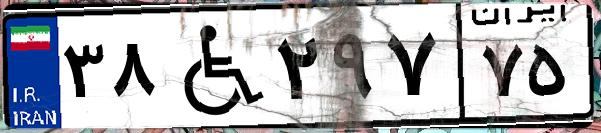2: (270, 28, 330, 110)
3: (57, 26, 110, 100)
5: (525, 38, 570, 115)
7: (385, 28, 445, 110), (475, 38, 525, 113)
8: (110, 28, 158, 98)
9: (330, 28, 385, 110)
ژ (معلولین و جانبازان): (158, 12, 270, 120)
